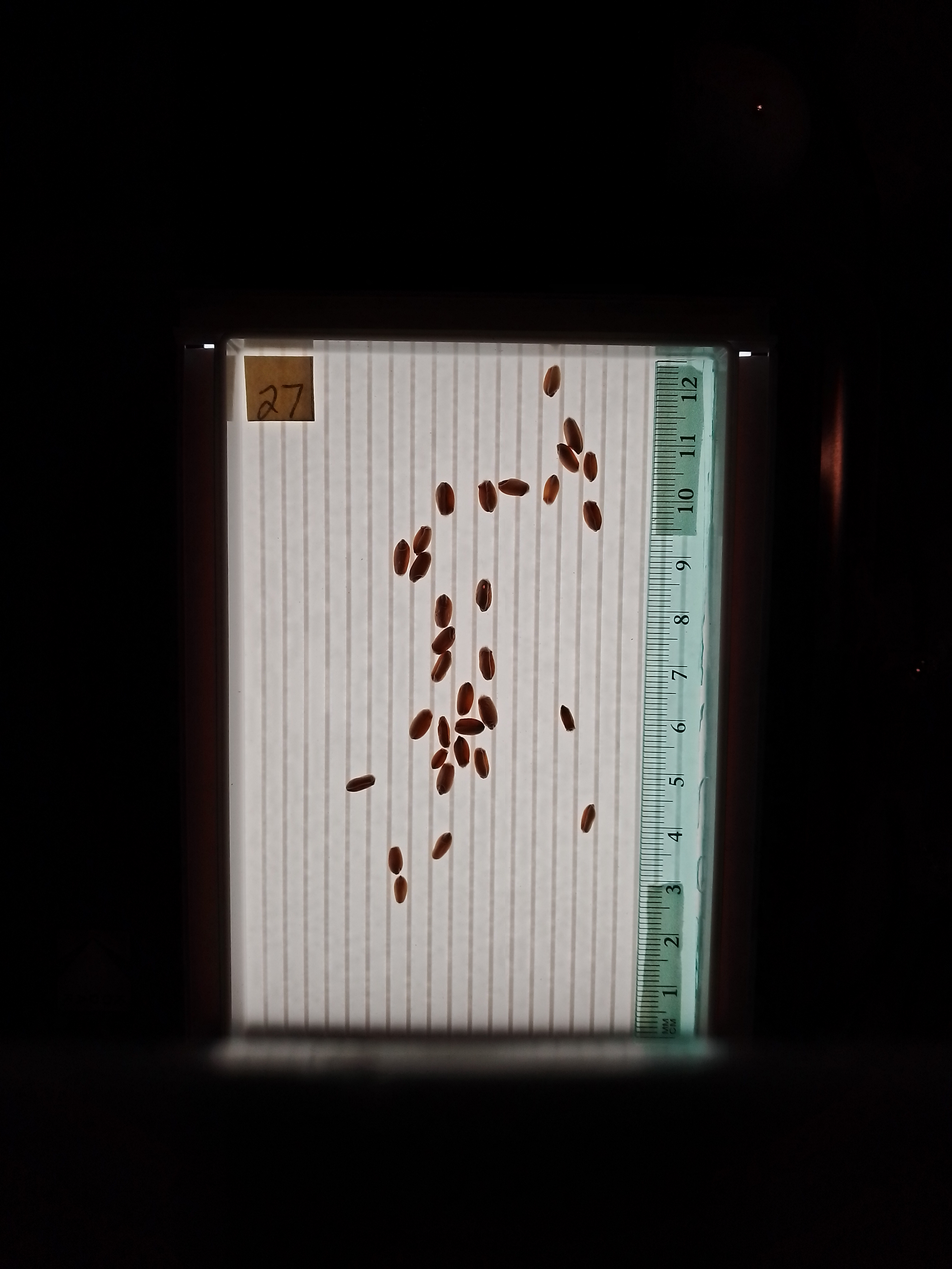seed mask: (564, 418, 583, 455), (478, 480, 498, 513), (410, 710, 432, 739), (558, 444, 579, 473), (434, 595, 453, 627), (479, 696, 498, 728), (432, 628, 455, 654), (410, 553, 431, 581), (436, 483, 454, 515), (499, 477, 529, 496), (583, 502, 602, 531), (432, 653, 451, 682), (394, 541, 410, 575), (436, 764, 454, 794), (455, 717, 483, 736), (457, 683, 474, 714), (544, 366, 561, 396), (476, 580, 492, 611), (433, 833, 452, 859), (413, 526, 431, 553), (347, 774, 374, 792), (479, 648, 495, 678), (543, 476, 559, 505), (454, 738, 470, 766), (475, 749, 490, 778), (580, 805, 596, 832), (583, 452, 598, 480), (560, 706, 575, 732), (388, 847, 402, 874), (394, 877, 407, 903), (438, 717, 448, 746), (432, 750, 446, 769)
